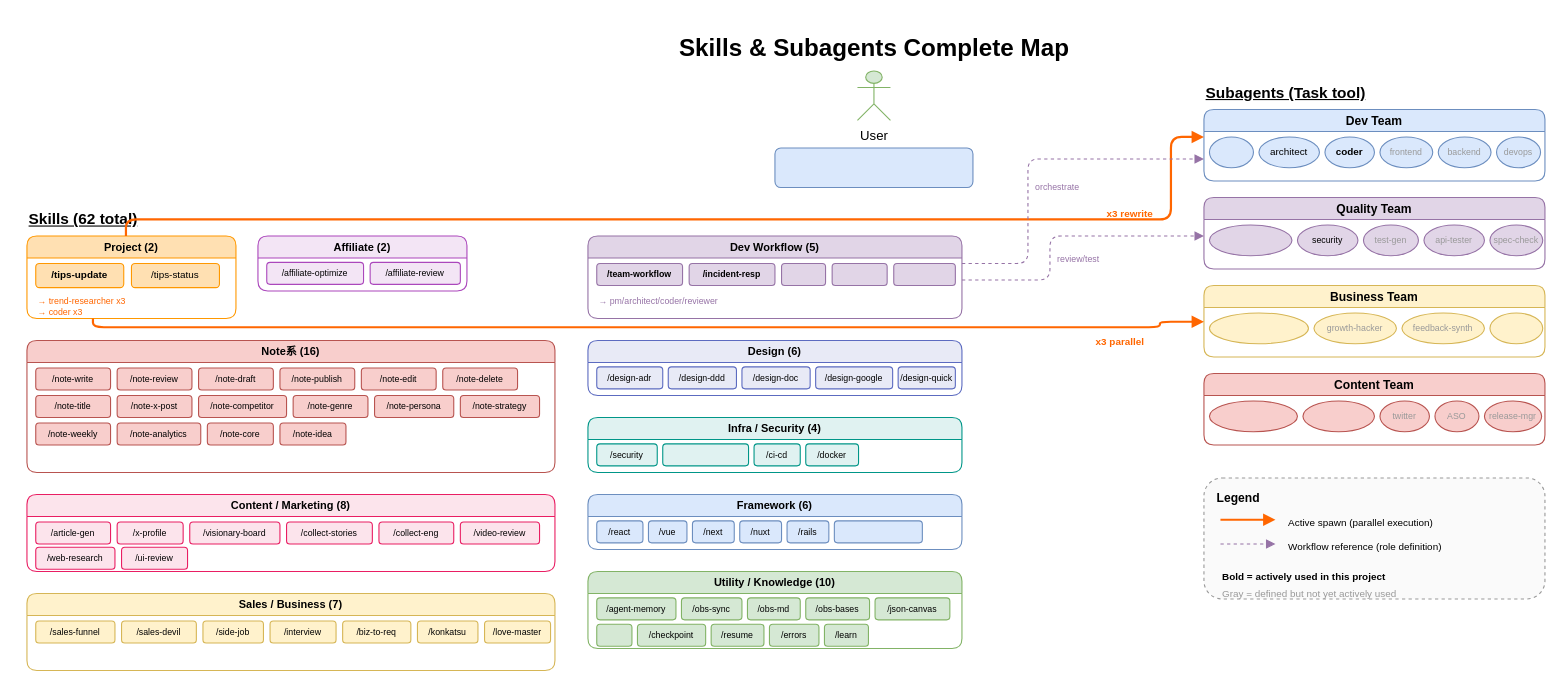
This 1564x690 diagram has some shape labels left out. Each missing label, with the centre of its shape:
/bye: the point at 614,634
/error-handling: the point at 705,454
/frontend-design: the point at 877,531
/tdd: the point at 803,273
/team-growth: the point at 924,273
/testing: the point at 859,273
Claude Code (Main Session): the point at 873,167
code-reviewer: the point at 1250,240
content-creator: the point at 1252,416
pm: the point at 1230,152
proofreader: the point at 1338,416
sprint-pri: the point at 1516,328
trend-researcher: the point at 1258,328
